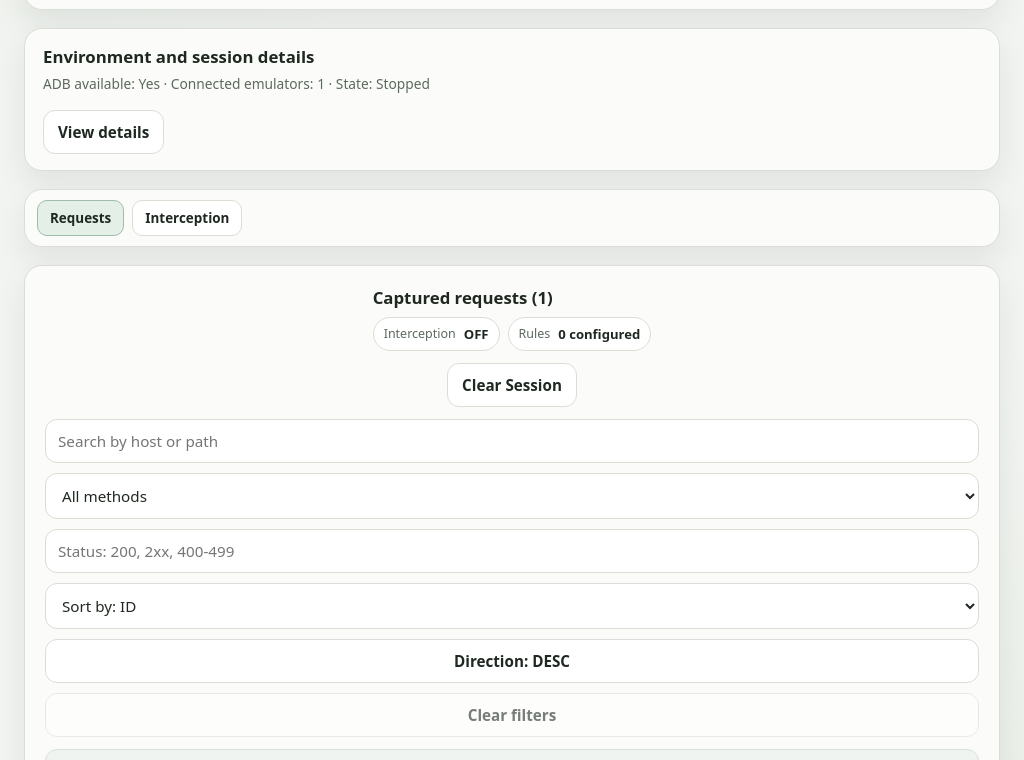
Test case: App › clears captured session from UI when clicking Clear Session
(page scrolled)
What coordinates should you click on to do the following:
click the button "Clear Session"
I would click on:
 (512, 385)
Its box is [447, 363, 577, 407].
(page scrolled)
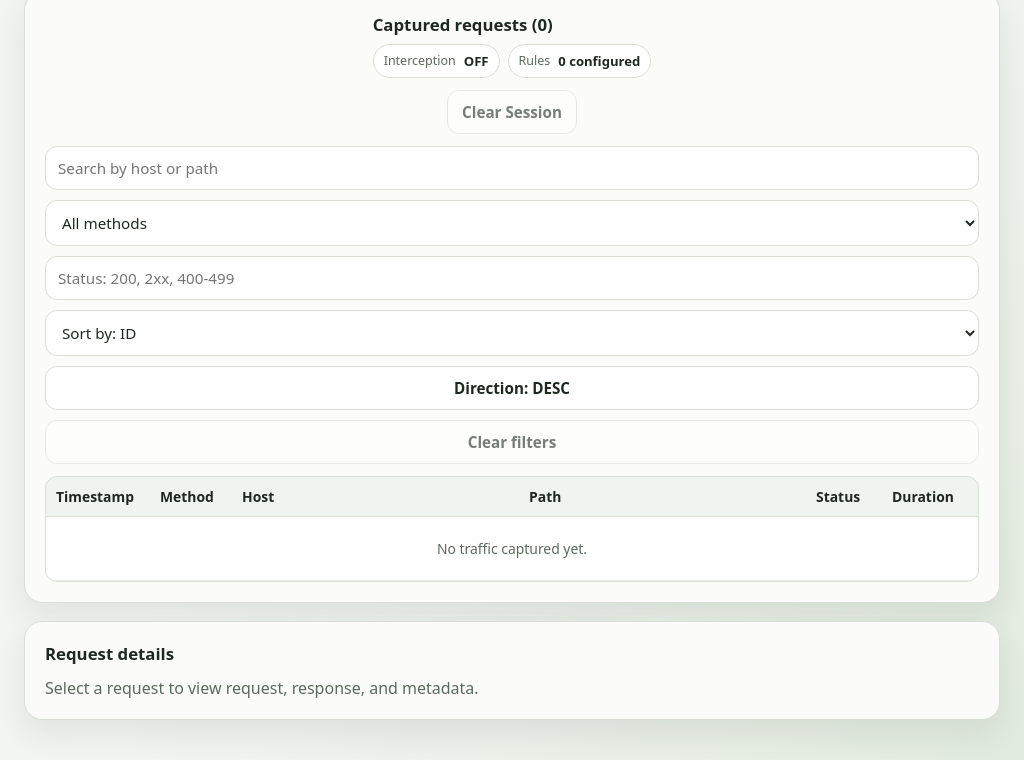
expect the text "No traffic captured yet." is shown: met, box [46, 516, 978, 580]
